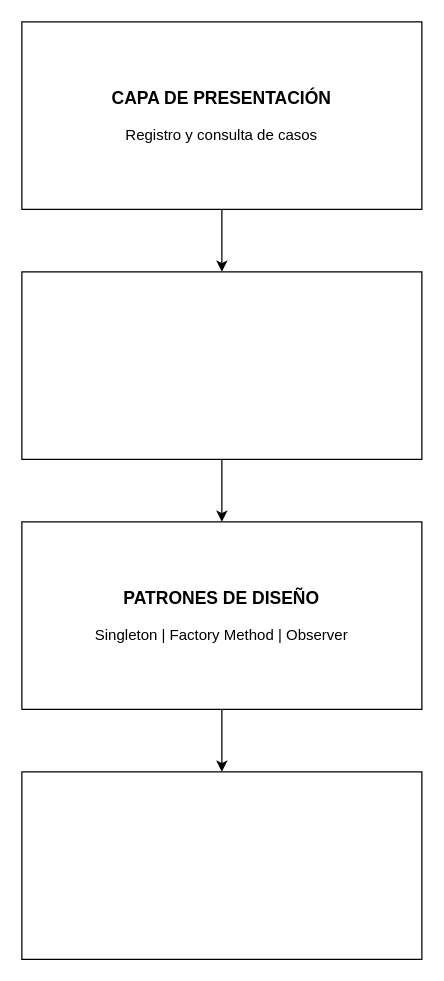
The diagram is 444 pixels wide and 981 high, and some of its shapes have lost their labels. Each missing label, with the centre of its shape:
"GESTIÓN DE DATOS Casos, animales y responsables" belongs at (x=221, y=865).
"GESTOR DE CASOS Registro, asignación y cambio de estado" belongs at (x=221, y=365).
